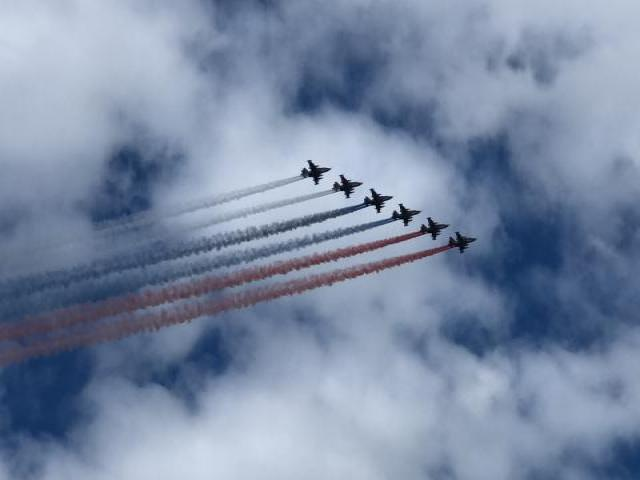flying wing: (302, 156, 330, 188), (332, 171, 360, 203), (364, 188, 391, 220), (444, 228, 480, 252), (392, 198, 412, 230), (418, 215, 442, 240)
